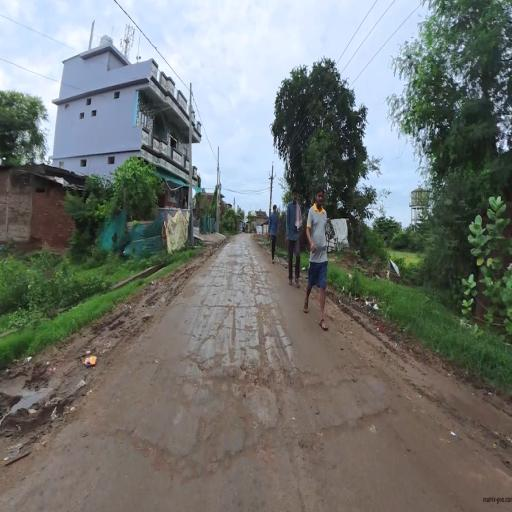alligator_crack: (143, 269, 294, 488)
